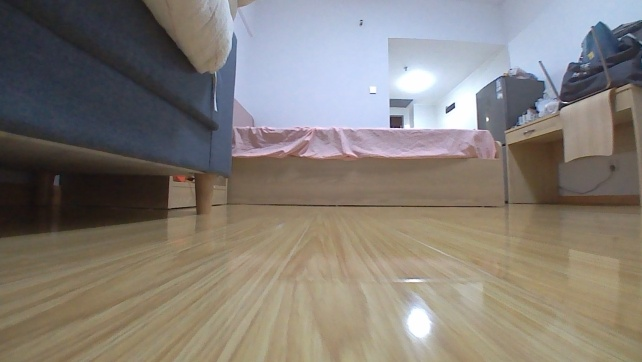bed: (225, 92, 506, 208)
refrigerator: (475, 74, 548, 205)
sofa1: (0, 0, 245, 219)
wire: (556, 170, 615, 196)
